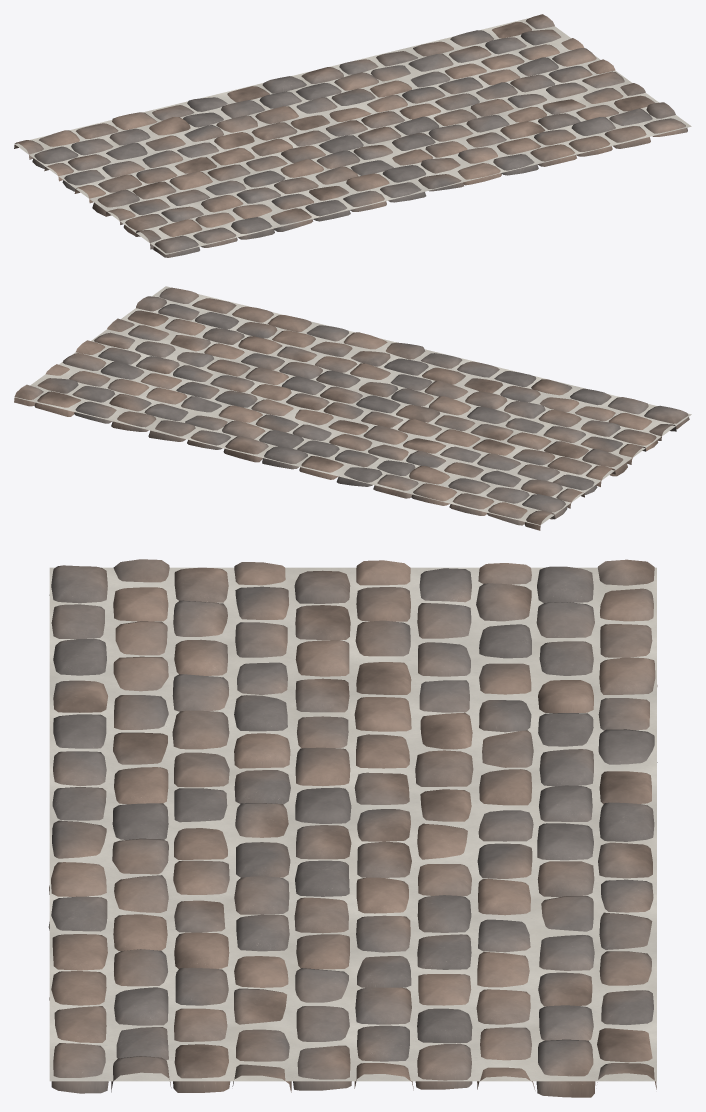
File: cobble_plaza_0.glb
3 views of the same model, one above another, from view 1: azimuth 30°, elevation 25°; view 2: azimuth 150°, elevation 25°; view 3: azimuth 270°, elevation 25° (orthographic). The views are drawn at different scales.
Visible parts, largest first — view 1: model; view 2: model; view 3: model.
Boxes of the visible parts, x1,y1,x2,y2 form: model: (14,14,691,257); model: (14,286,691,530); model: (48,559,657,1097).
Bounding box in the file's own units: 4.01 × 0.1053 × 2.
Materials: 2 (2 with a texture image).
